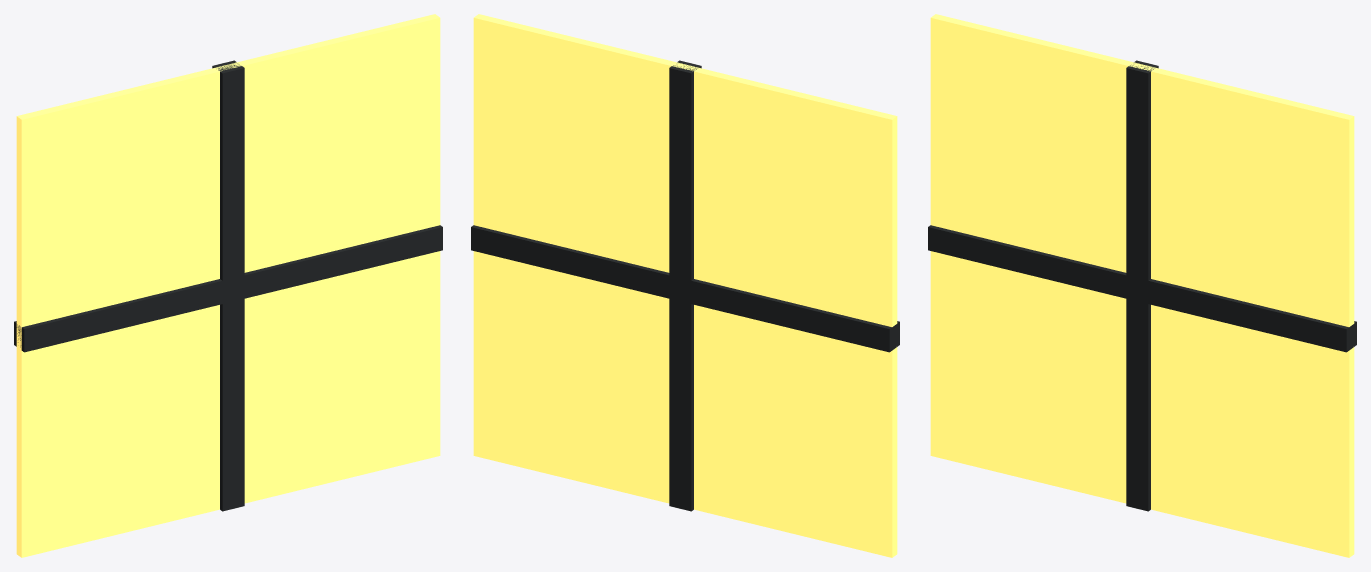
The model's file is prop_window_glow.glb.
3 renders of one model, left to right at view 1: azimuth 30°, elevation 25°; view 2: azimuth 150°, elevation 25°; view 3: azimuth 330°, elevation 25°, orthographic.
Visible parts, largest first — view 1: Glow, Mullion; view 2: Glow, Mullion; view 3: Glow, Mullion.
Part boxes in pixels (x1,y1,x2,y2): Glow: [16, 14, 440, 557]; Mullion: [14, 60, 442, 511]; Glow: [473, 14, 897, 557]; Mullion: [471, 60, 899, 511]; Glow: [930, 14, 1354, 557]; Mullion: [928, 60, 1356, 511].
Bounding box in the file's own units: 0.94 × 0.94 × 0.04.
